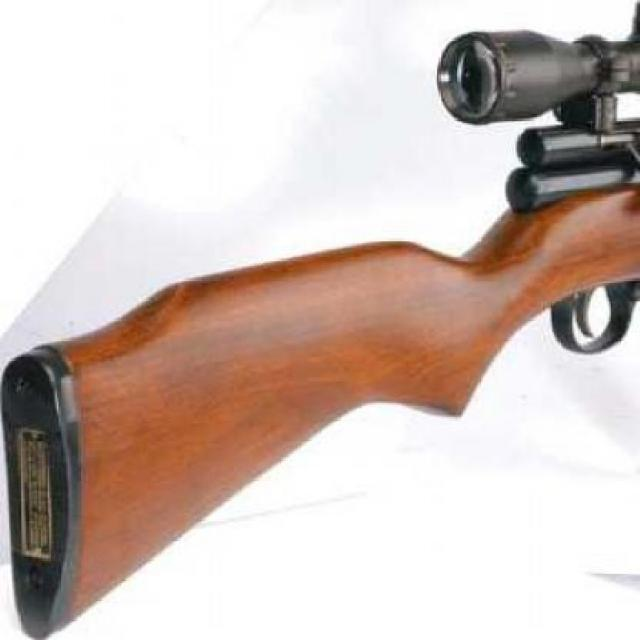weapon: (42, 30, 640, 640)
